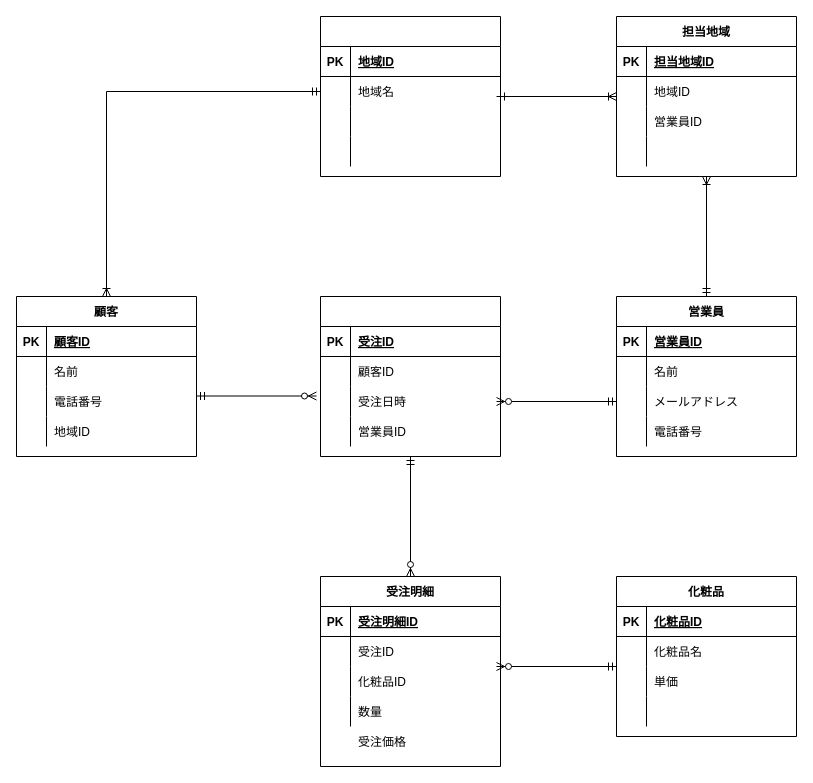
Image size: 813x783. Some labels were removed from this diagram. The shapes that lost their labels are listed below. From the top down, each one's box as (x1, y1, x2, y2) in pixels, then its label:
(320, 16, 500, 176): 地域
(320, 296, 500, 456): 受注
